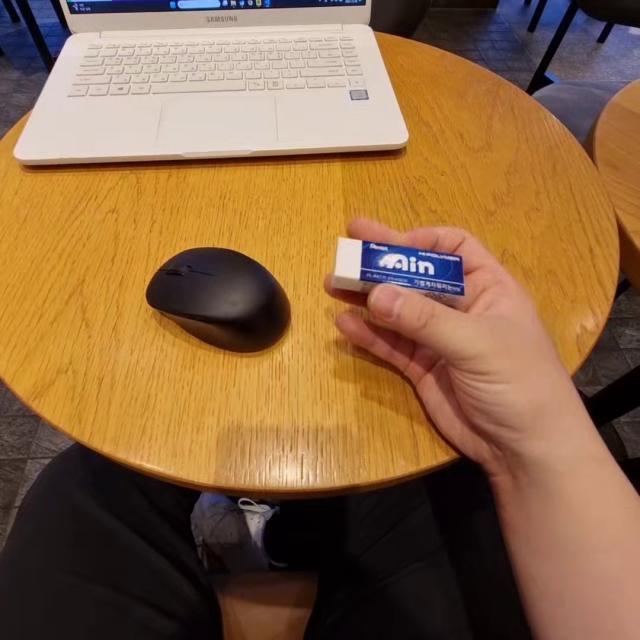eraser: (317, 242, 479, 295)
grab_eraser: (324, 224, 568, 441)
mouse: (114, 242, 300, 372)
